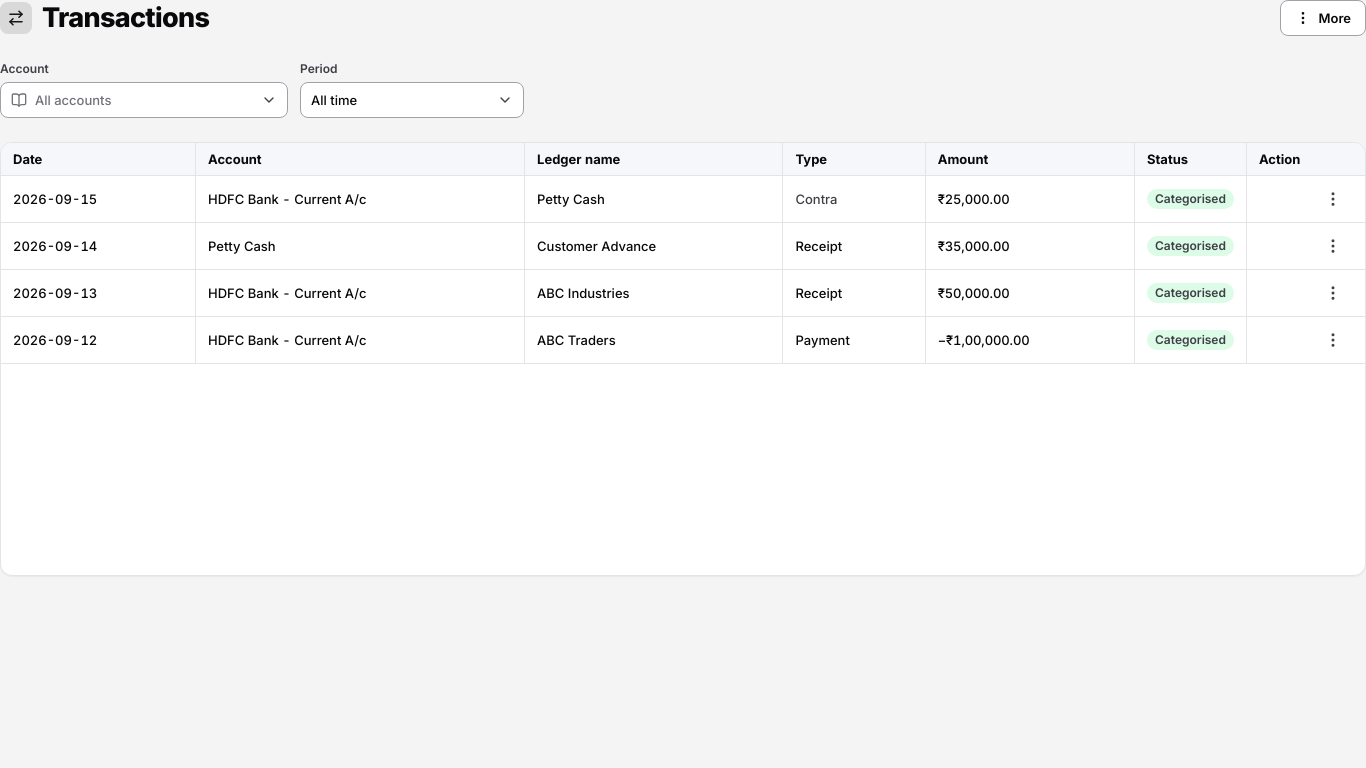
Test: the account filter › filters the rows without a totals band
Click the dropdown labelled "account". click: [73, 100]
box: x1=0 y1=82 x2=288 y2=118
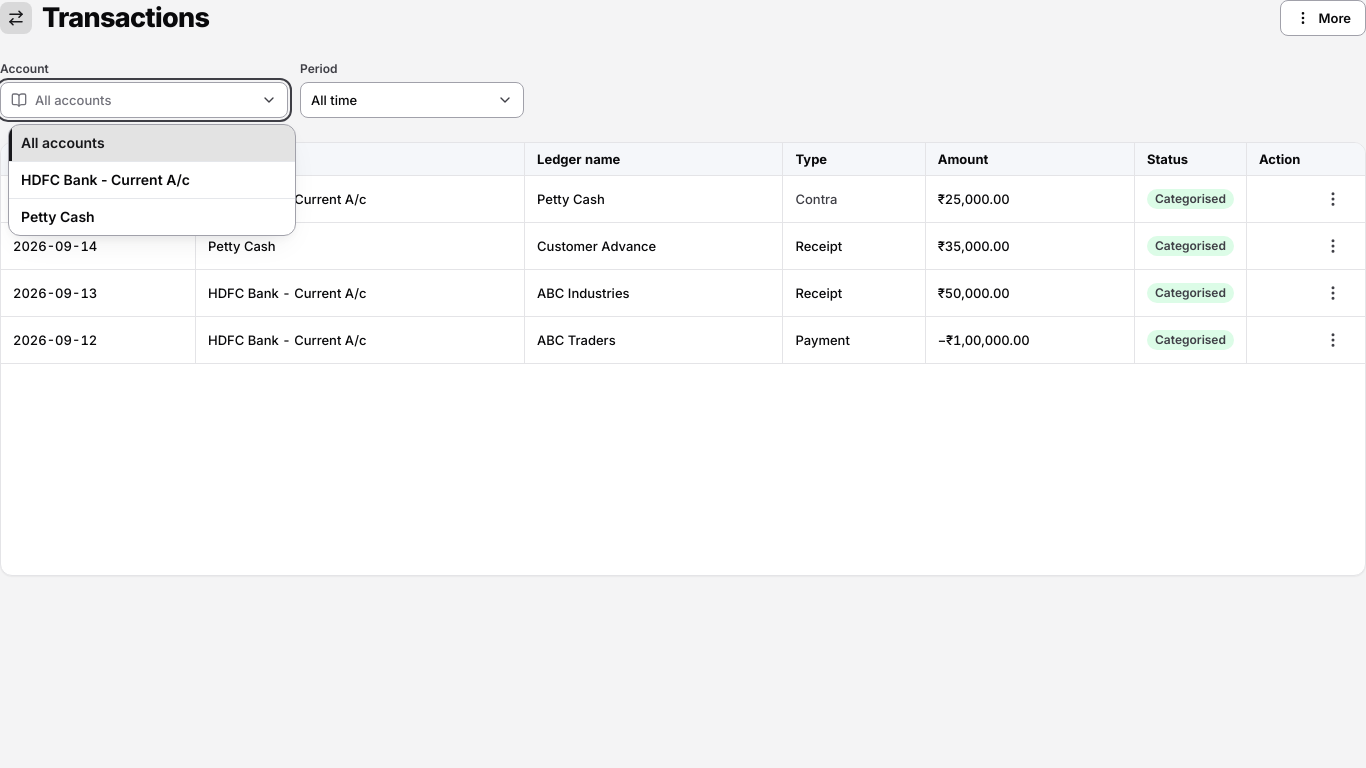
Click the option "Petty Cash". click: [58, 216]
box: x1=9 y1=198 x2=295 y2=235
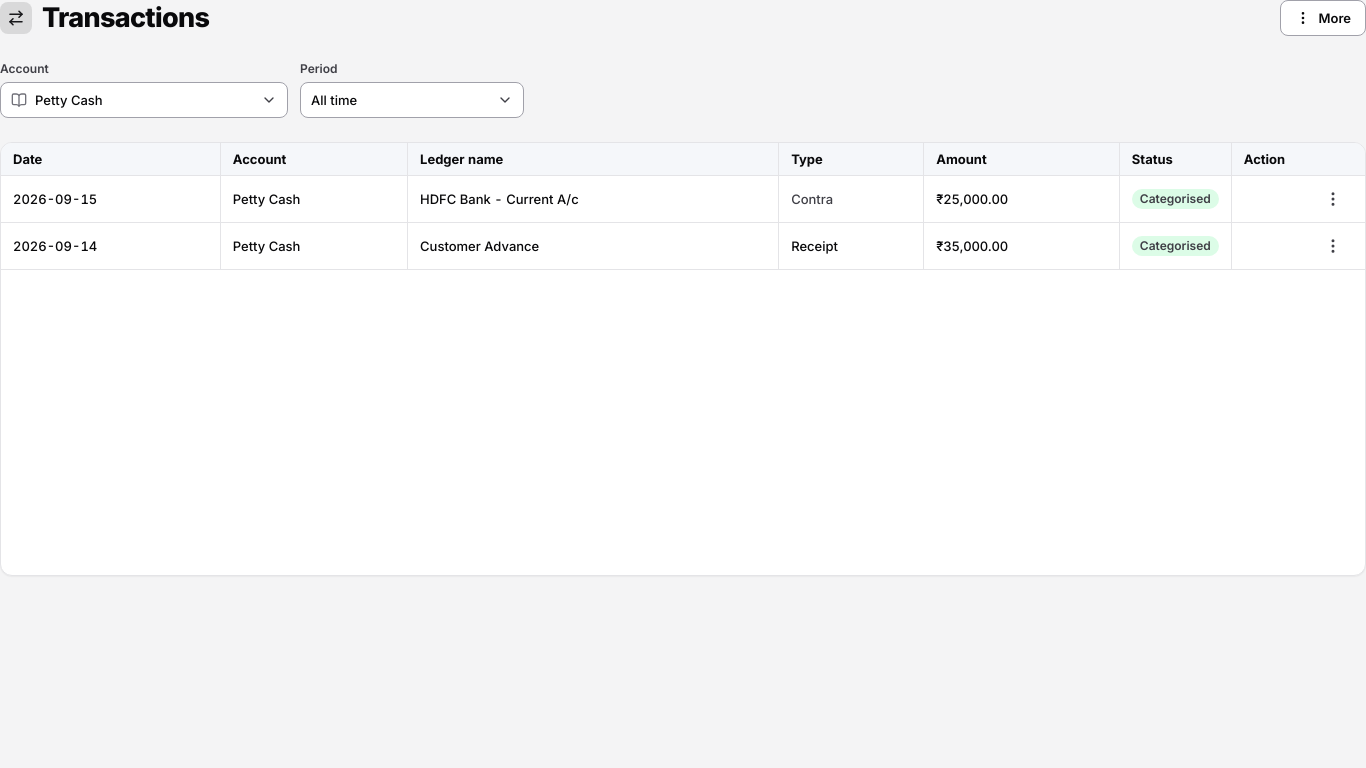
Expected: the text "ABC Traders" is gone
